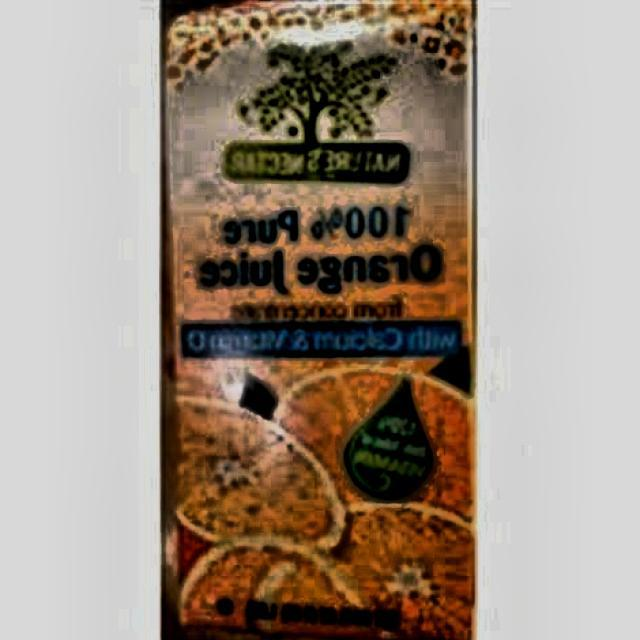cardboard: (160, 0, 480, 640)
